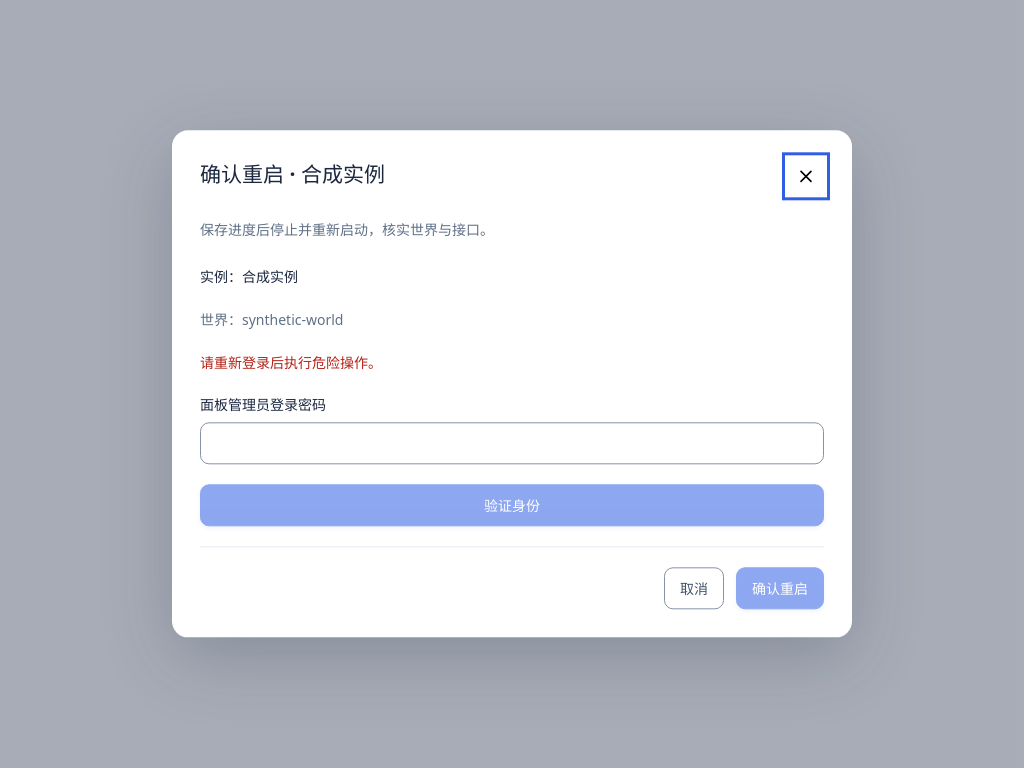
it: 预检失败显示弹窗内错误，不能确认，近期认证成功后仍需明确确认
Check: the message shows "请重新登录", box [200, 354, 382, 373]
Check: the button "确认重启" is disabled, box [736, 568, 824, 610]
Type "synthetic-login" into the password field labelled "面板管理员登录密码" at (512, 444), box [200, 423, 824, 465]
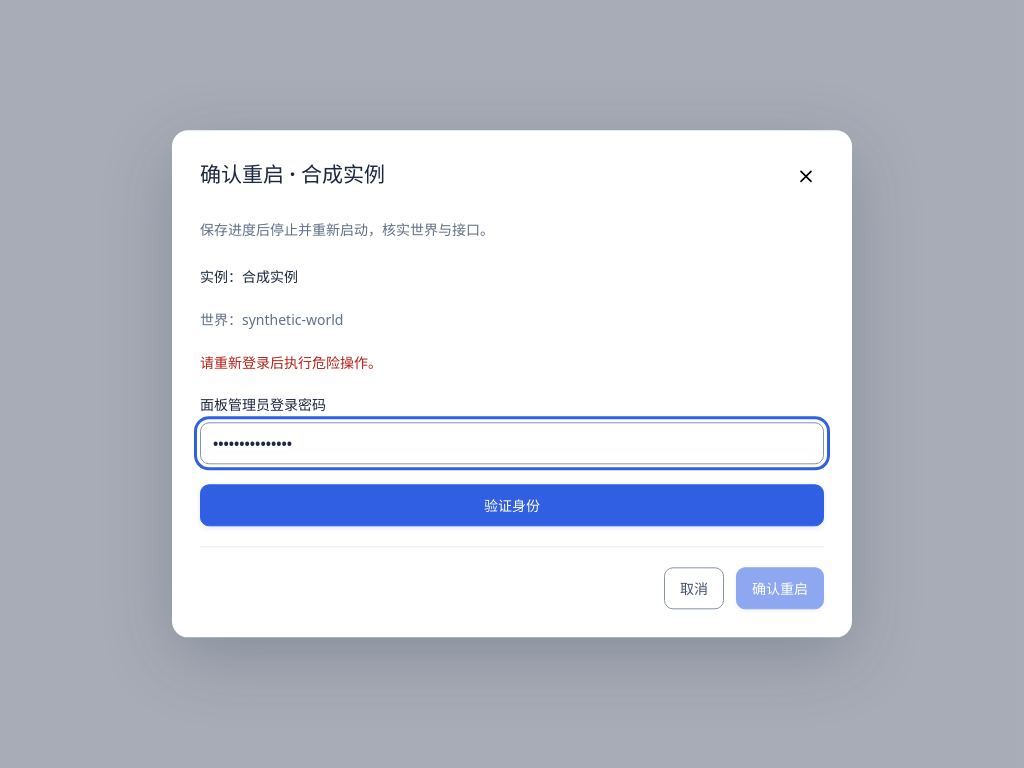
Click the button "验证身份" at (512, 506), box [200, 485, 824, 527]
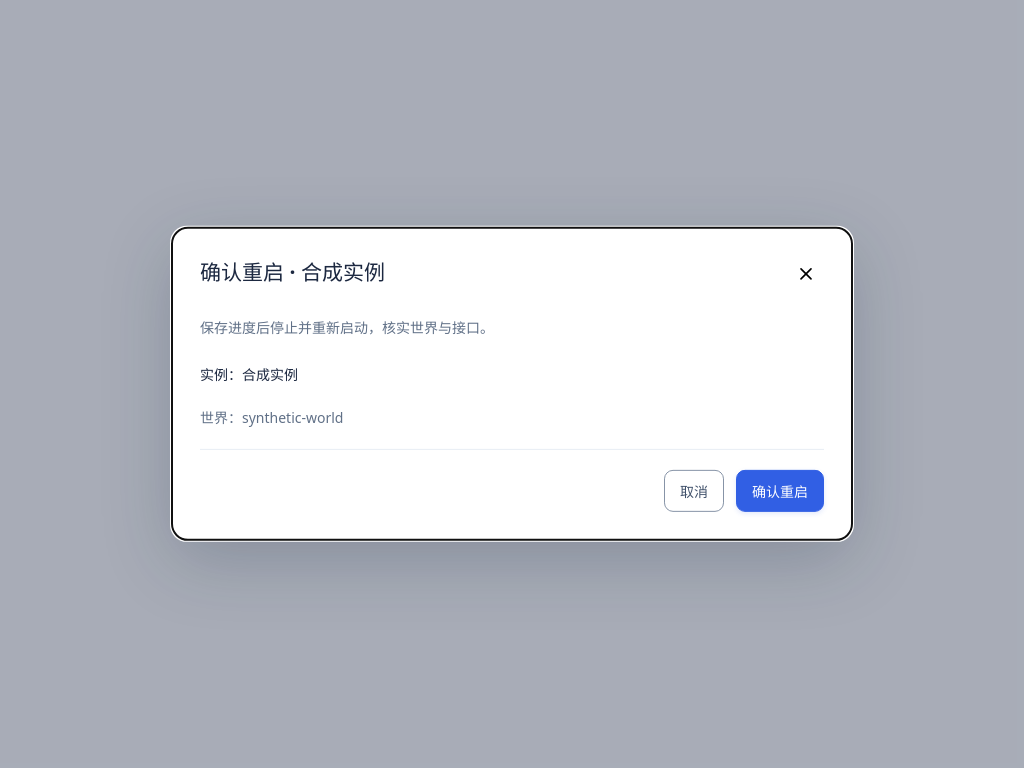
Check: the button "确认重启" is enabled, box [736, 470, 824, 512]
